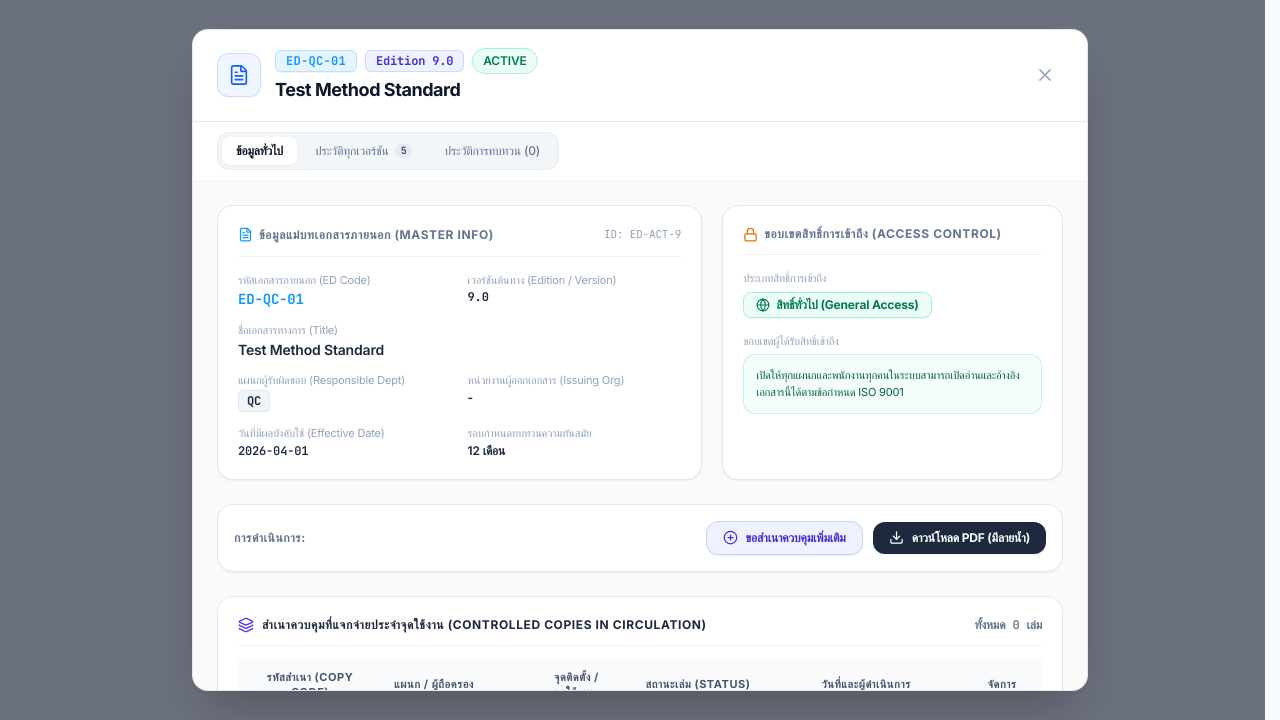
Test: QA/QC Canonical Normalization, RBAC & Document Prefix Extraction › sorts ExternalDocDetailModal version history in strict reverse chronological order without false (ล่าสุด) badge and supports collapsible toggle
// Switch to Version History tab
Step 1. Click the button "ประวัติทุกเวอร์ชัน 5" → (364, 151), box [301,137,426,165]
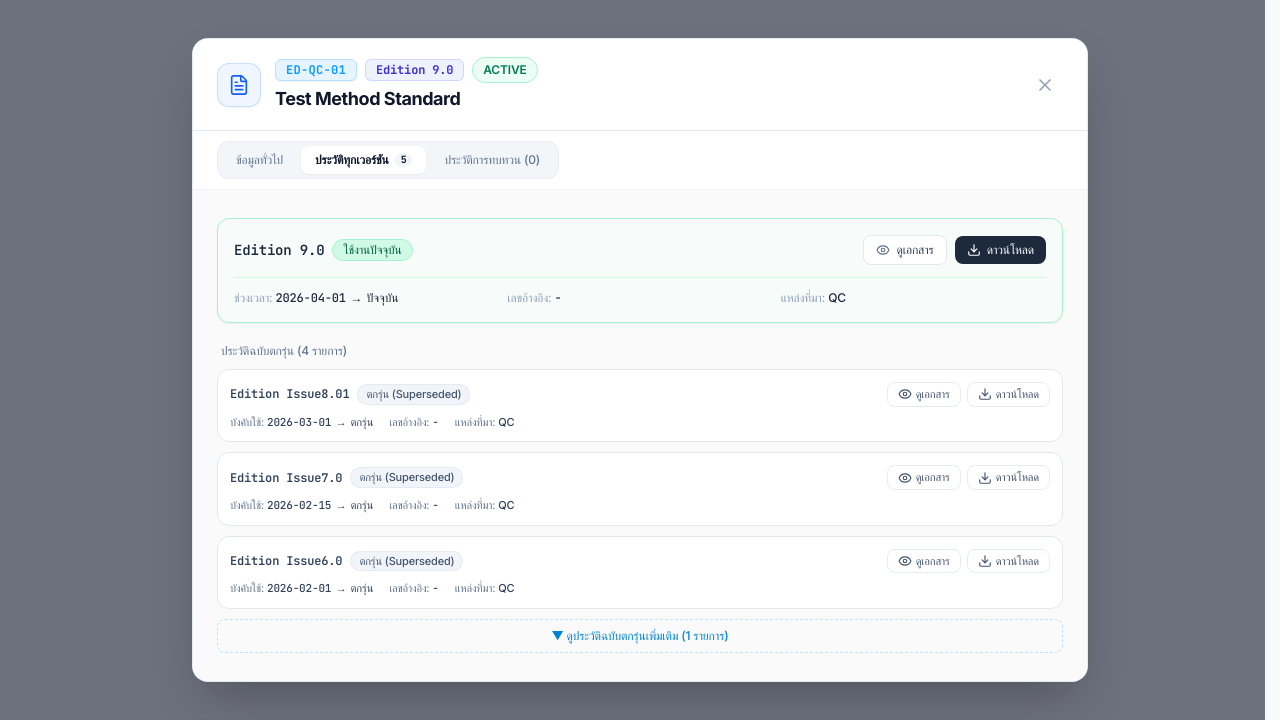
Now the text "ใช้งานปัจจุบัน" is shown, box [332,239,412,261]
Now the text "Edition Issue8.01" is shown, box [230,386,349,402]
Now the text "Edition Issue7.0" is shown, box [230,470,342,486]
Step 2. Click the button "▼ ดูประวัติฉบับตกรุ่นเพิ่มเติม (1 รายการ)" → (640, 636), box [217,619,1063,653]
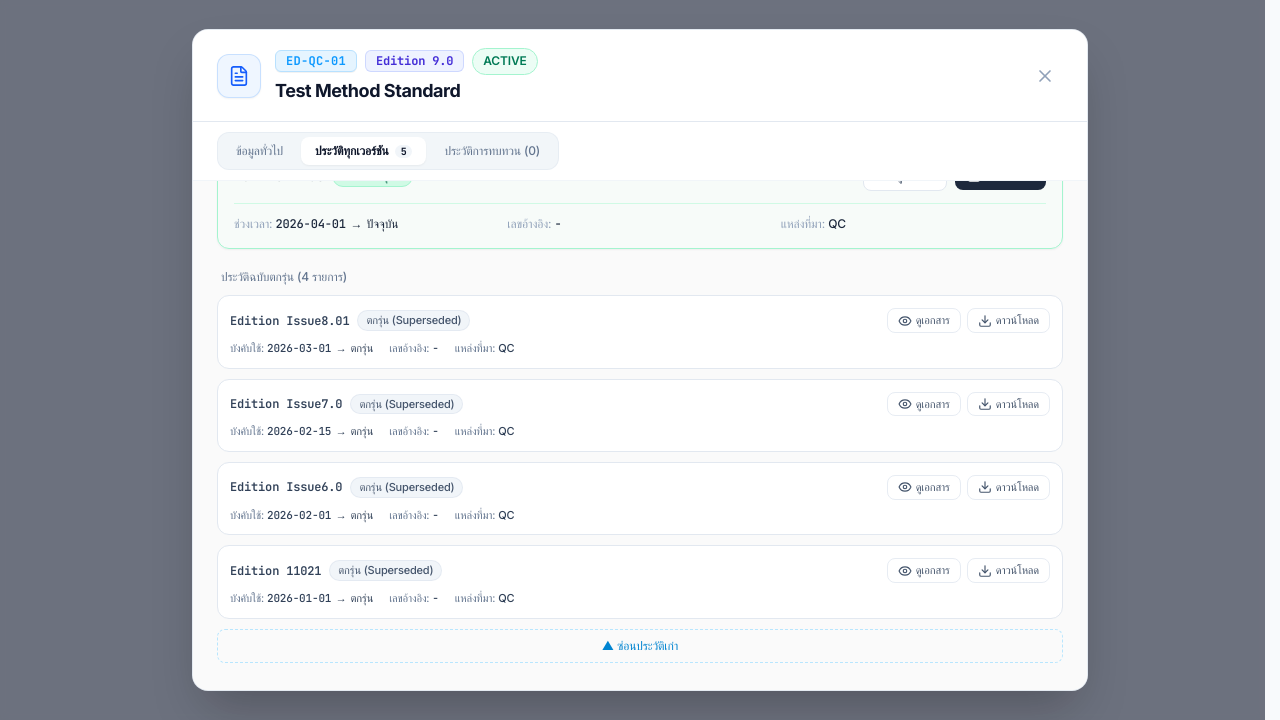
Now the text "Edition 11021" is shown, box [230,562,321,578]
Now the button "▲ ซ่อนประวัติเก่า" is shown, box [217,628,1063,662]
